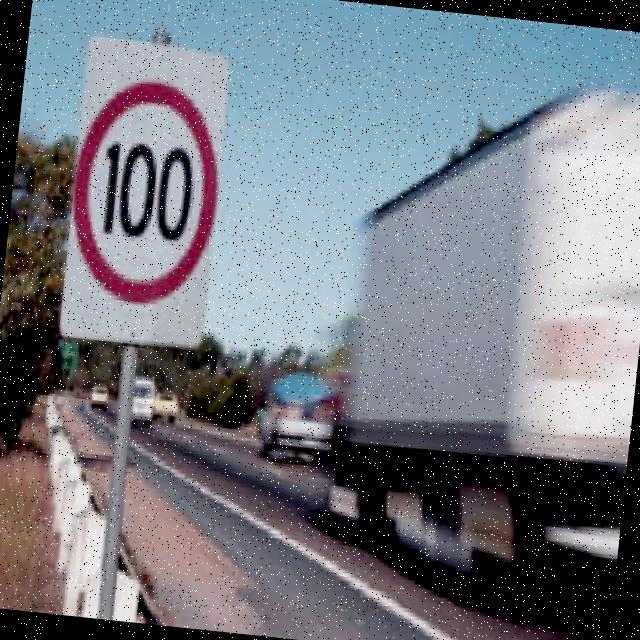Ograniczenie predkosci do 100: (62, 70, 226, 312)
